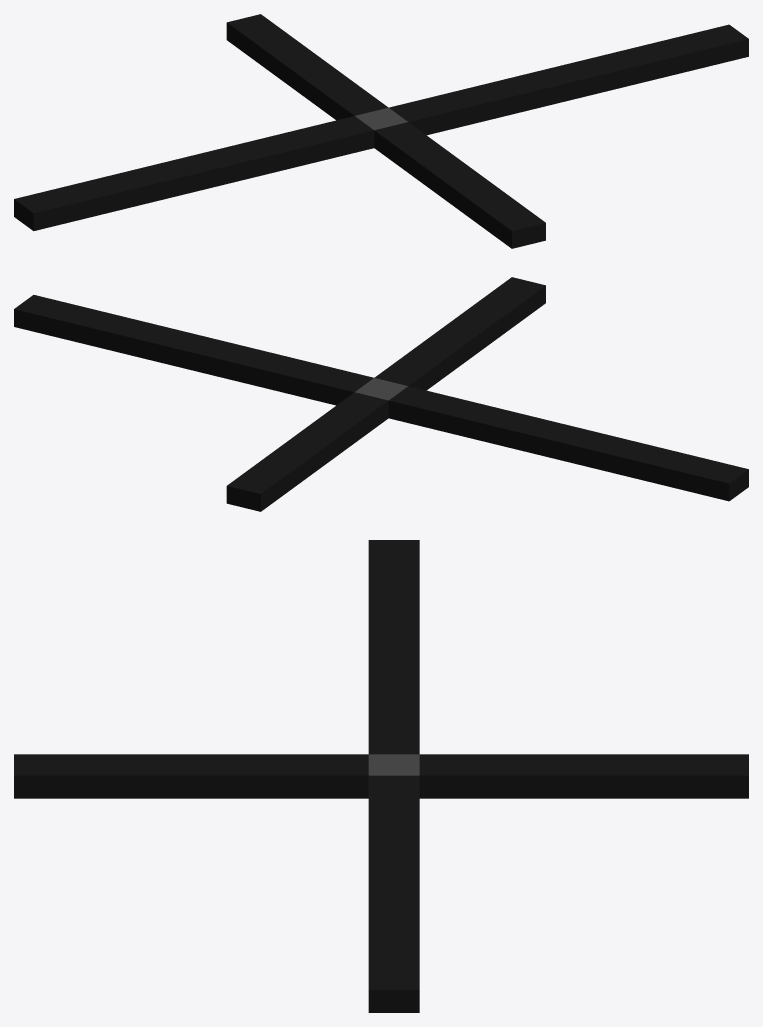
Rendered from helicopter_helice.obj.
The picture shows the model from 3 angles, top to bottom: view 1: azimuth 30°, elevation 25°; view 2: azimuth 150°, elevation 25°; view 3: azimuth 270°, elevation 25°; orthographic projection. The views are drawn at different scales.
Visible parts, largest first — view 1: helicopter_helice; view 2: helicopter_helice; view 3: helicopter_helice.
Boxes of the visible parts, x1=… form: helicopter_helice: x1=14, y1=14, x2=748, y2=248; helicopter_helice: x1=14, y1=277, x2=748, y2=511; helicopter_helice: x1=14, y1=540, x2=748, y2=1012.
Bounding box in the file's own units: 16.8 × 0.4 × 11.6.
